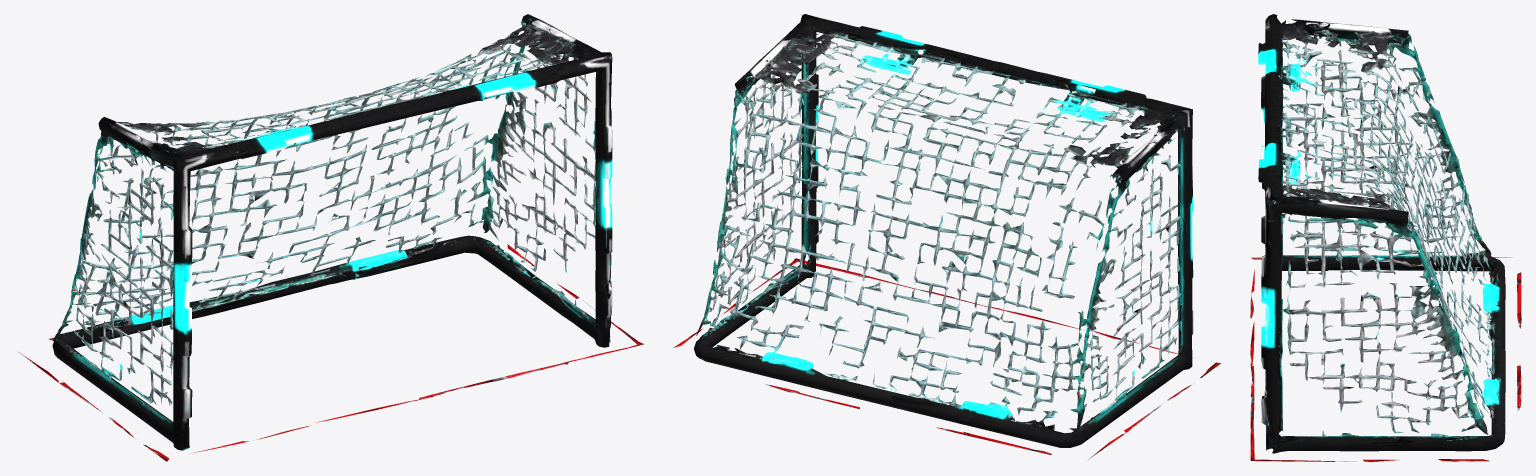
The model's file is stadium_goal_complete.glb.
3 views of the same model, side by side, from view 1: azimuth 30°, elevation 25°; view 2: azimuth 150°, elevation 25°; view 3: azimuth 270°, elevation 25° (orthographic). The views are drawn at different scales.
Visible parts, largest first — view 1: Mesh1.0; view 2: Mesh1.0; view 3: Mesh1.0.
Part boxes in pixels (box(x1,y1,x2,y2)): Mesh1.0: box(16, 14, 643, 461); Mesh1.0: box(674, 14, 1221, 460); Mesh1.0: box(1250, 14, 1521, 461).
Size of the model in its own units: 18 by 10.45 by 10.09.
Materials: 1 (1 with a texture image).
